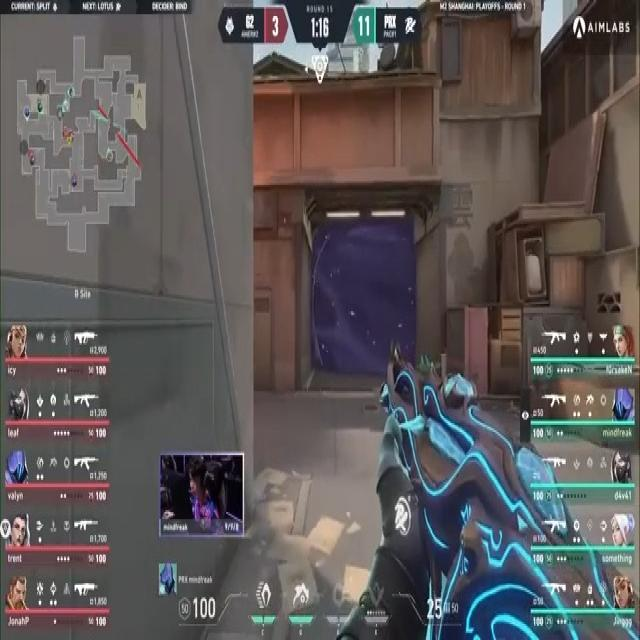smoke: (309, 203, 411, 386)
